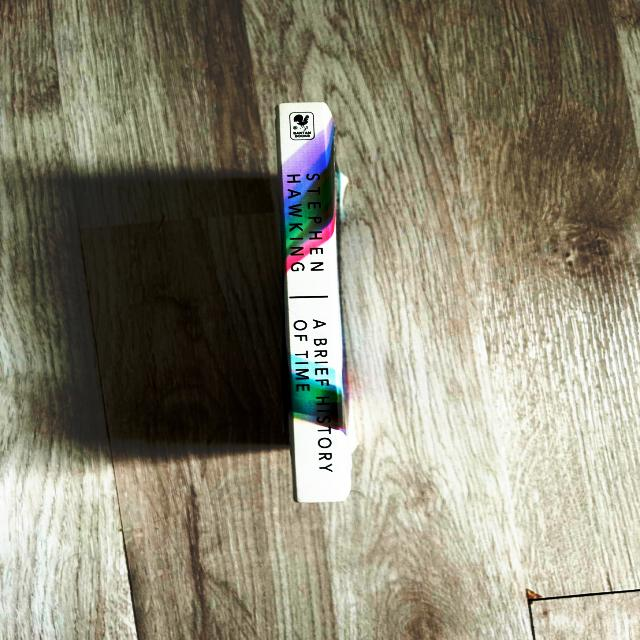Book: (276, 103, 355, 502)
